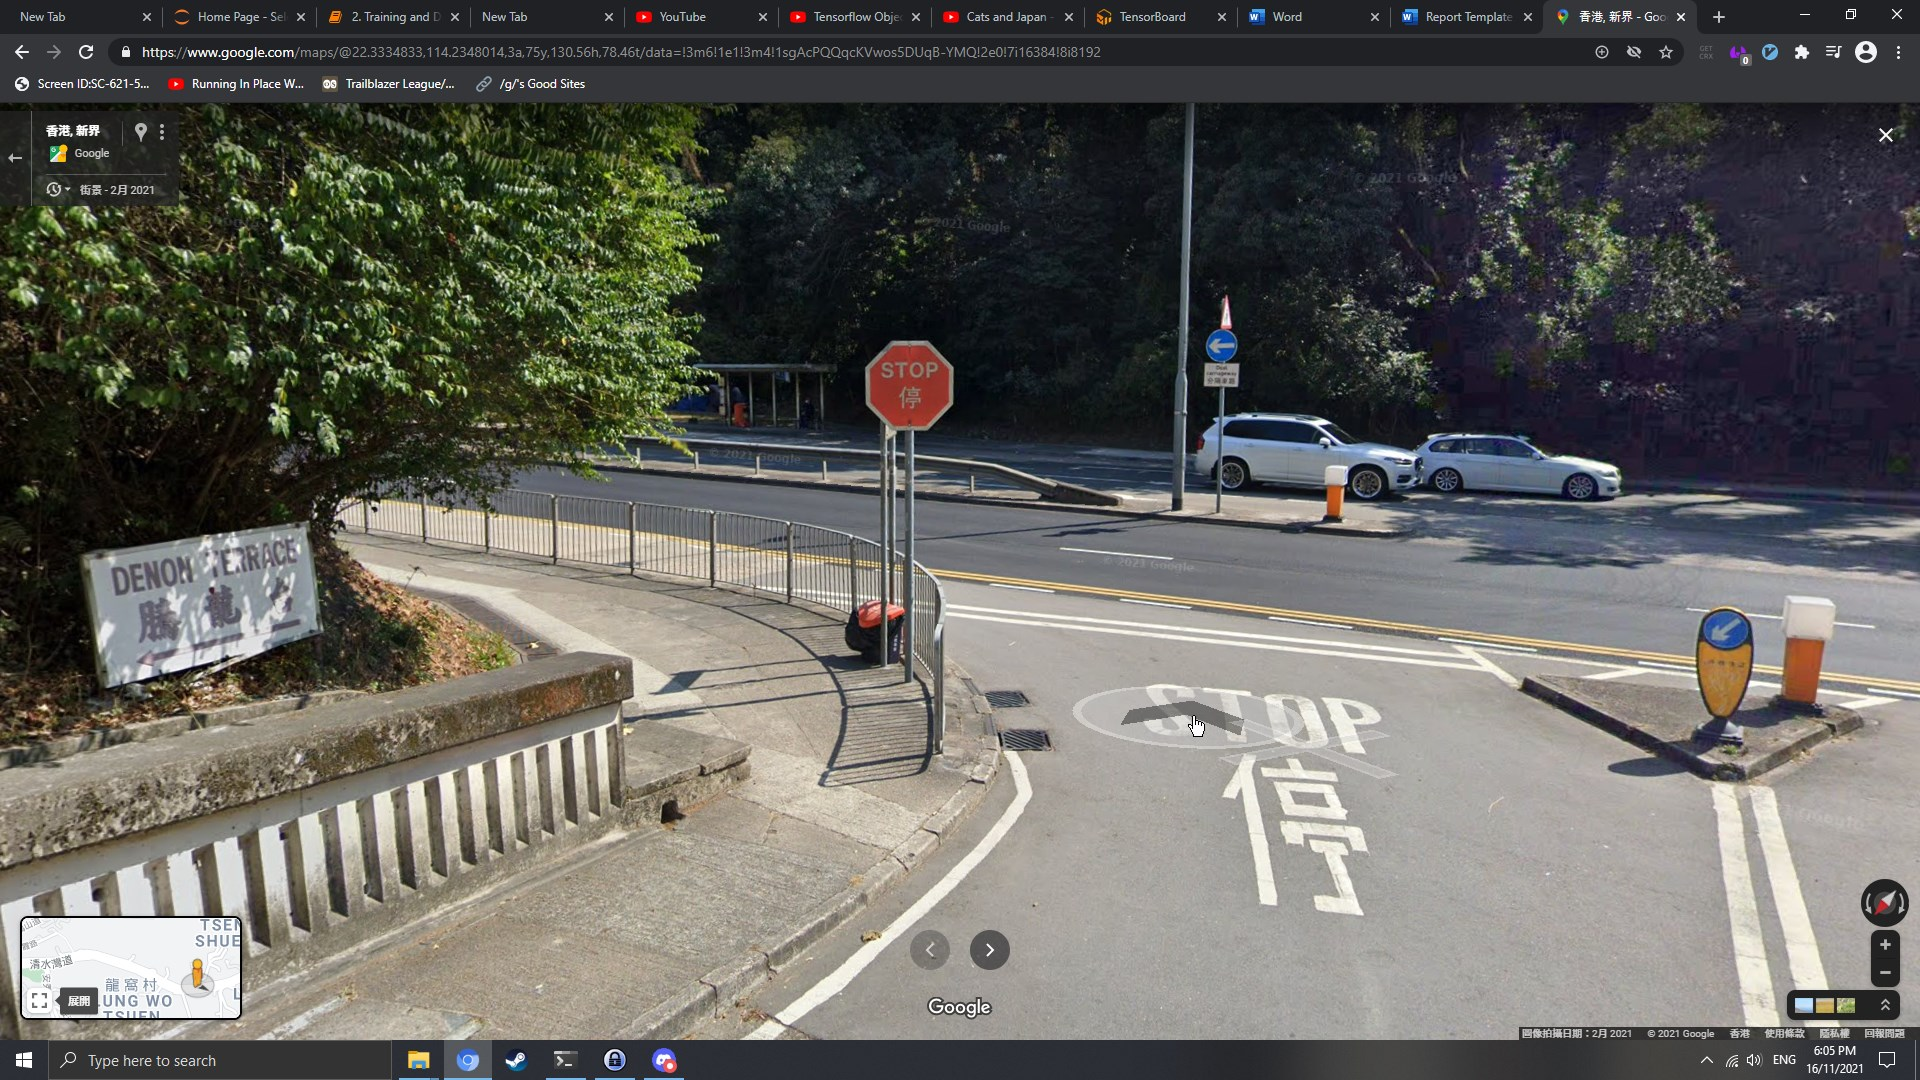Stop: (864, 340, 955, 431)
